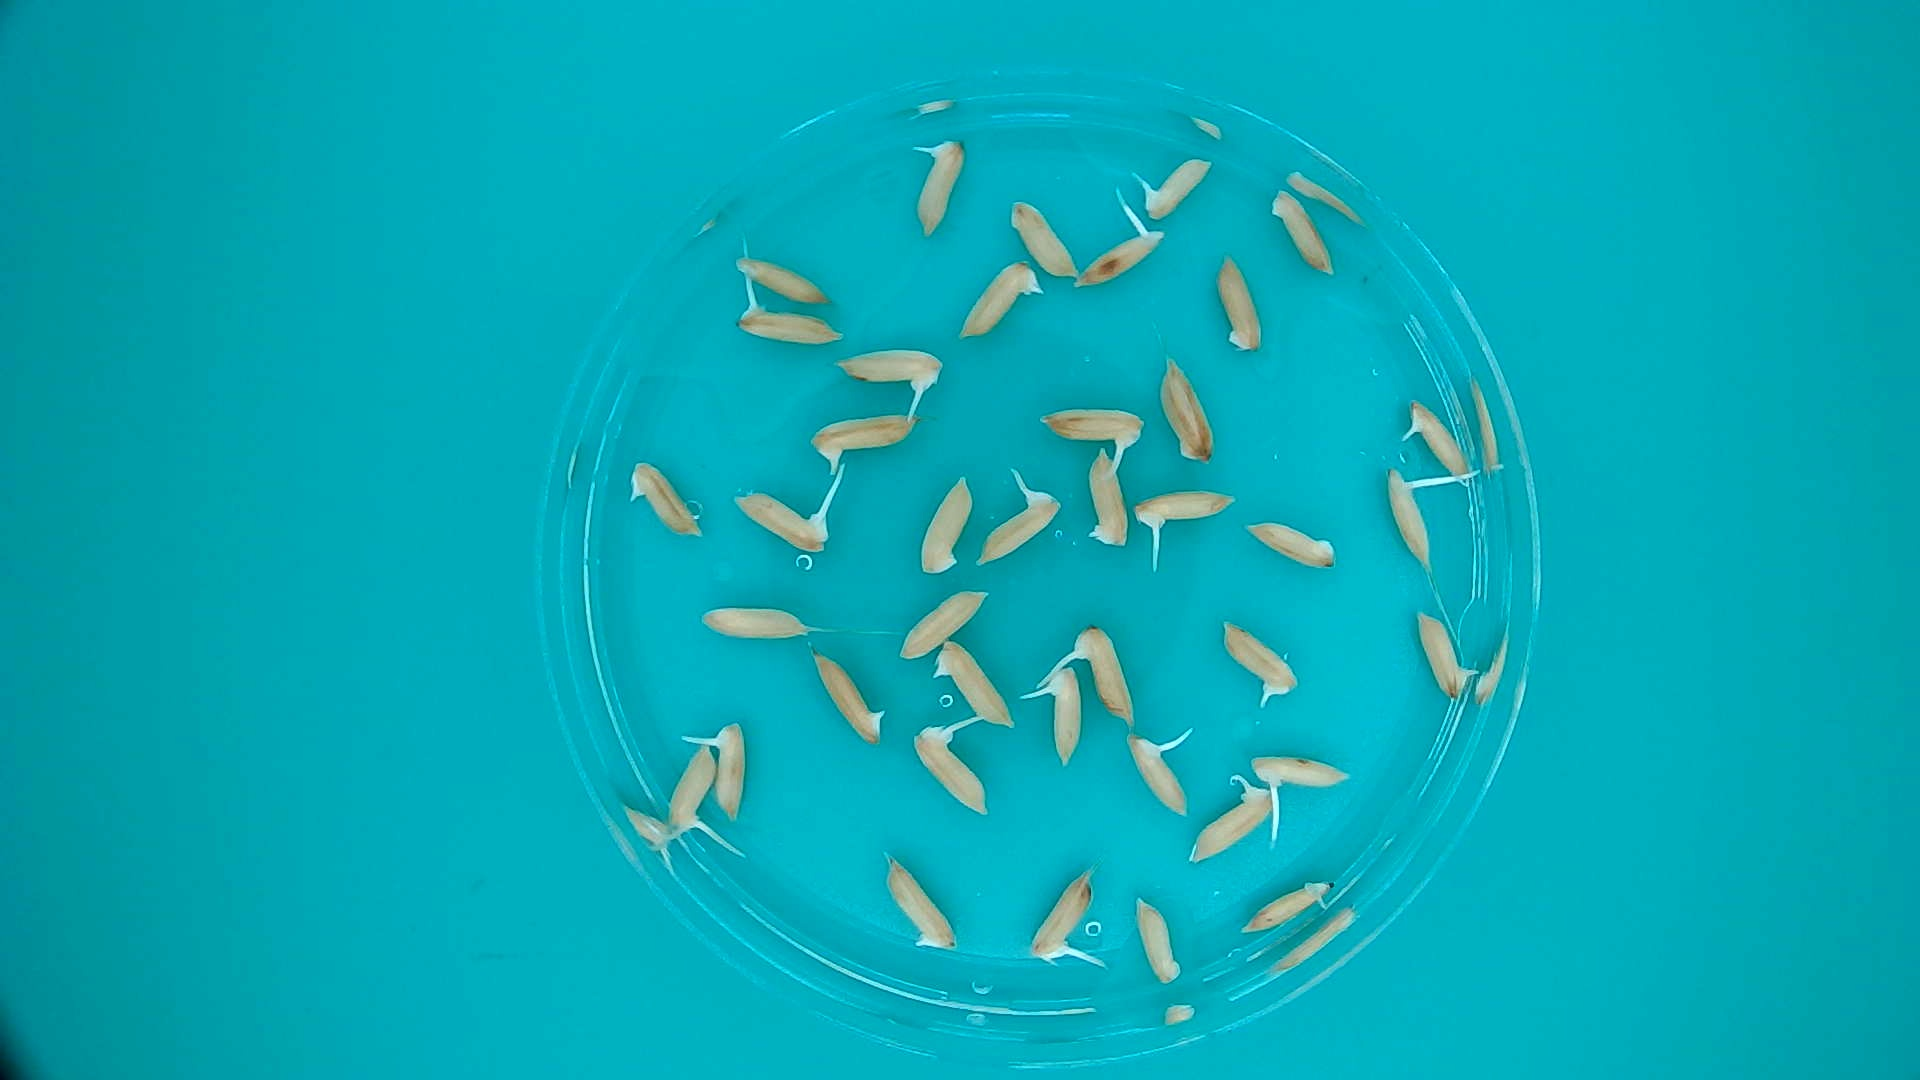no: (1158, 349, 1222, 467), (894, 584, 992, 661), (1006, 194, 1081, 280), (695, 597, 814, 644)
yes: (909, 715, 993, 820), (975, 471, 1064, 568), (1216, 611, 1303, 709), (880, 847, 959, 955), (810, 644, 889, 748), (1185, 775, 1276, 865), (1065, 615, 1138, 727), (931, 637, 1015, 729), (1025, 862, 1098, 965), (952, 257, 1040, 342), (804, 407, 922, 471), (829, 342, 949, 402), (729, 485, 837, 553), (1127, 481, 1244, 542), (1073, 215, 1168, 289), (625, 455, 705, 541), (1124, 725, 1196, 820), (1381, 460, 1441, 574), (914, 467, 977, 575), (906, 131, 967, 243), (1033, 398, 1149, 455), (1414, 603, 1480, 702), (1267, 185, 1336, 280), (731, 291, 845, 348), (1400, 394, 1474, 479), (731, 247, 835, 305), (1213, 248, 1267, 359), (1238, 876, 1335, 935), (1245, 746, 1358, 795), (663, 740, 719, 839), (1036, 659, 1084, 771), (1133, 153, 1215, 218), (1081, 444, 1130, 553), (1133, 891, 1185, 989), (703, 716, 748, 824)
